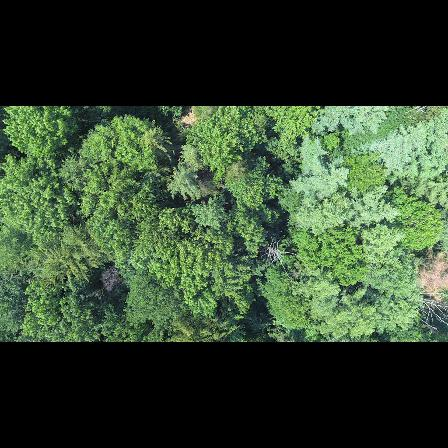Dead: (258, 234, 294, 271), (93, 265, 131, 293)
